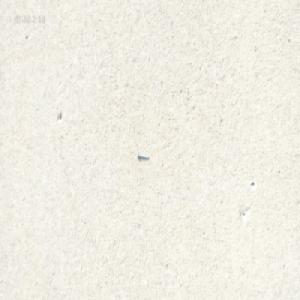Nail: (136, 152, 148, 159)
